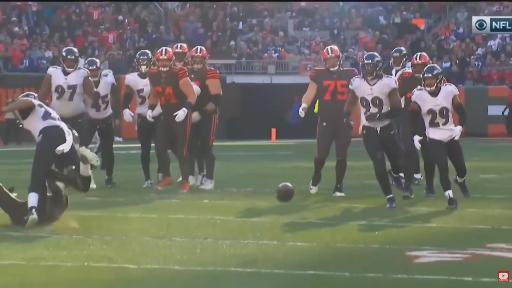Helmet: (422, 65, 443, 91), (361, 53, 382, 79), (411, 52, 431, 78), (154, 47, 174, 72), (61, 47, 79, 73), (135, 50, 153, 73), (172, 43, 189, 67), (191, 46, 208, 68), (390, 47, 407, 69), (84, 58, 100, 81), (19, 92, 38, 100), (330, 58, 336, 62)
Jersey: (412, 84, 458, 142), (350, 76, 397, 127), (310, 68, 357, 119), (47, 67, 90, 118), (15, 99, 67, 141), (149, 67, 188, 112), (86, 70, 115, 119), (188, 66, 219, 110), (125, 73, 150, 115), (397, 68, 422, 108), (45, 179, 68, 220), (392, 68, 406, 79), (391, 68, 404, 78)
Player: (2, 93, 99, 226), (344, 53, 403, 207), (299, 46, 357, 196), (411, 65, 469, 209), (147, 47, 196, 193), (37, 130, 99, 225), (39, 47, 95, 146), (123, 50, 161, 187), (189, 47, 222, 189), (84, 58, 119, 187), (399, 113, 422, 198), (188, 123, 205, 186), (390, 47, 407, 78), (172, 44, 190, 66)
